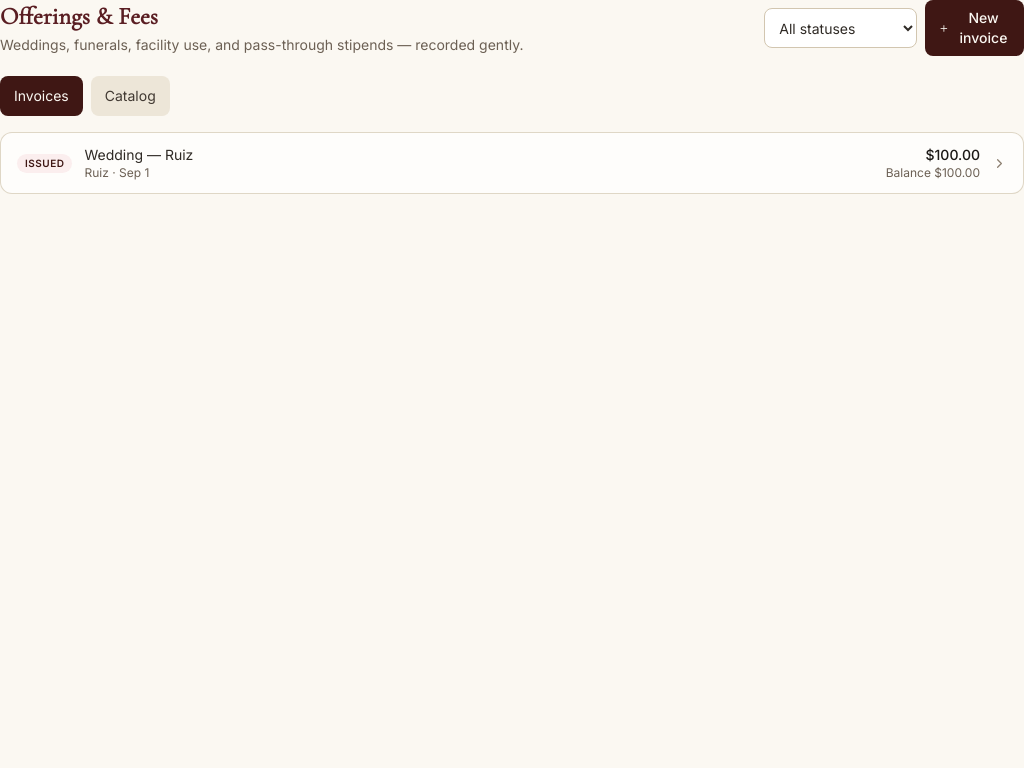
Test: a late invoice read does not replace a newer payment › keeps the paid sheet when an older unpaid read settles afterwards
Click the button "Issued Wedding — Ruiz Ruiz · Sep 1 $100.00 Balance $100.00": coordinates (45, 163) [0,132,1023,194]
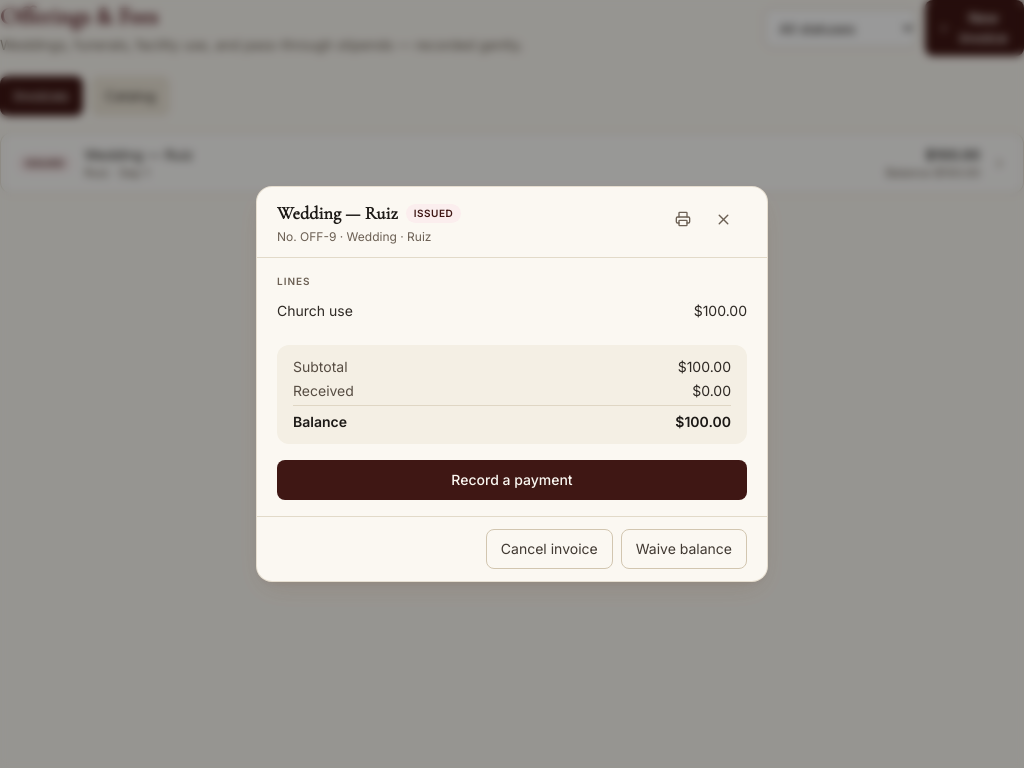
Check: the text "Church use" is shown, box [277,301,353,321]
Click the button "Record a payment": coordinates (512, 480) [277,460,747,500]
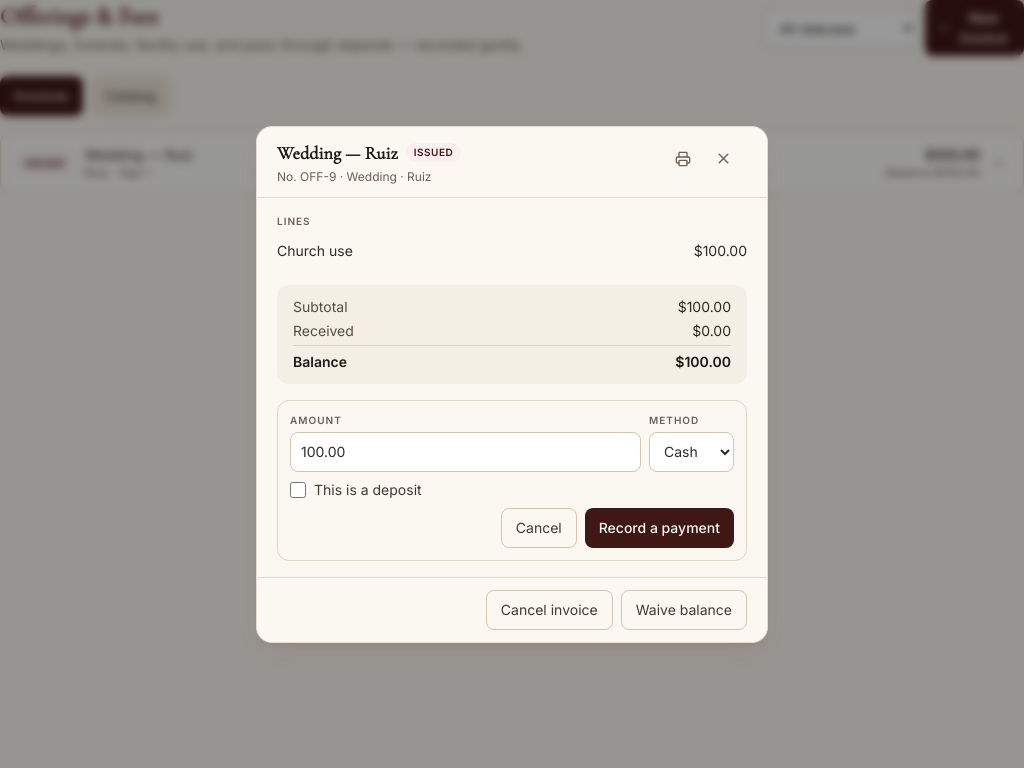
In the field labelled "Amount": coordinates (466, 452) [290,432,641,472], type "100"
Click the button "Record a payment": coordinates (659, 528) [585,508,734,548]
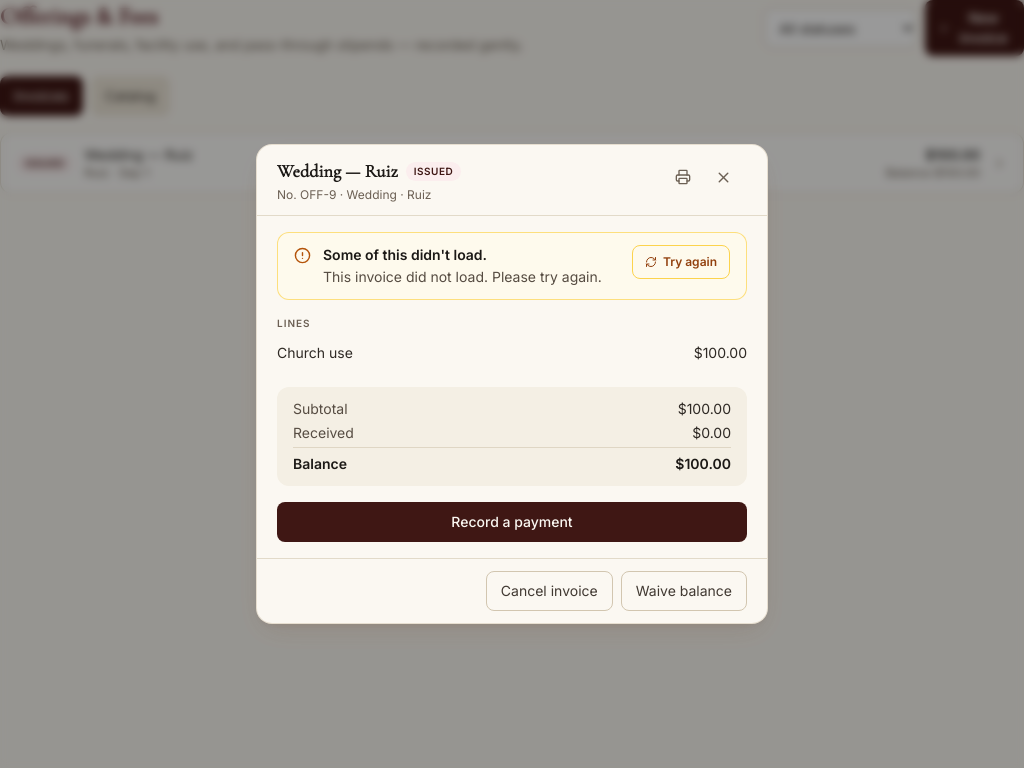
Check: the text "This invoice did not load. Please try again." is shown, box [323,267,620,287]
Click the button "Try again": coordinates (681, 262) [632,245,730,279]
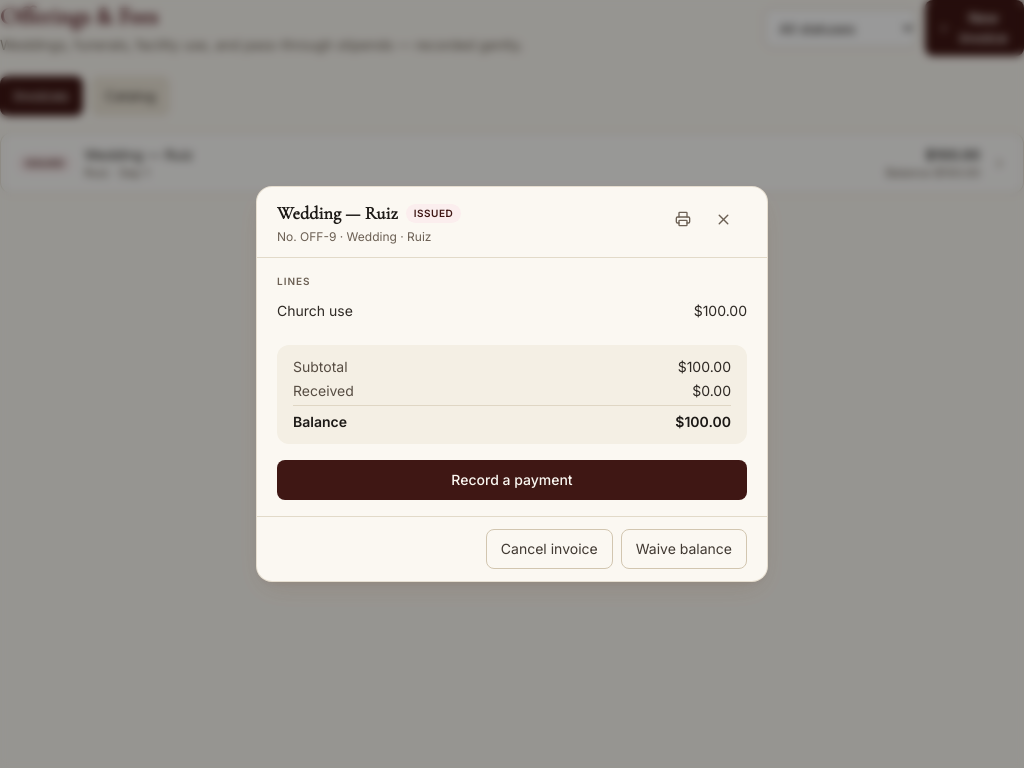
Click the button "Record a payment": coordinates (512, 480) [277,460,747,500]
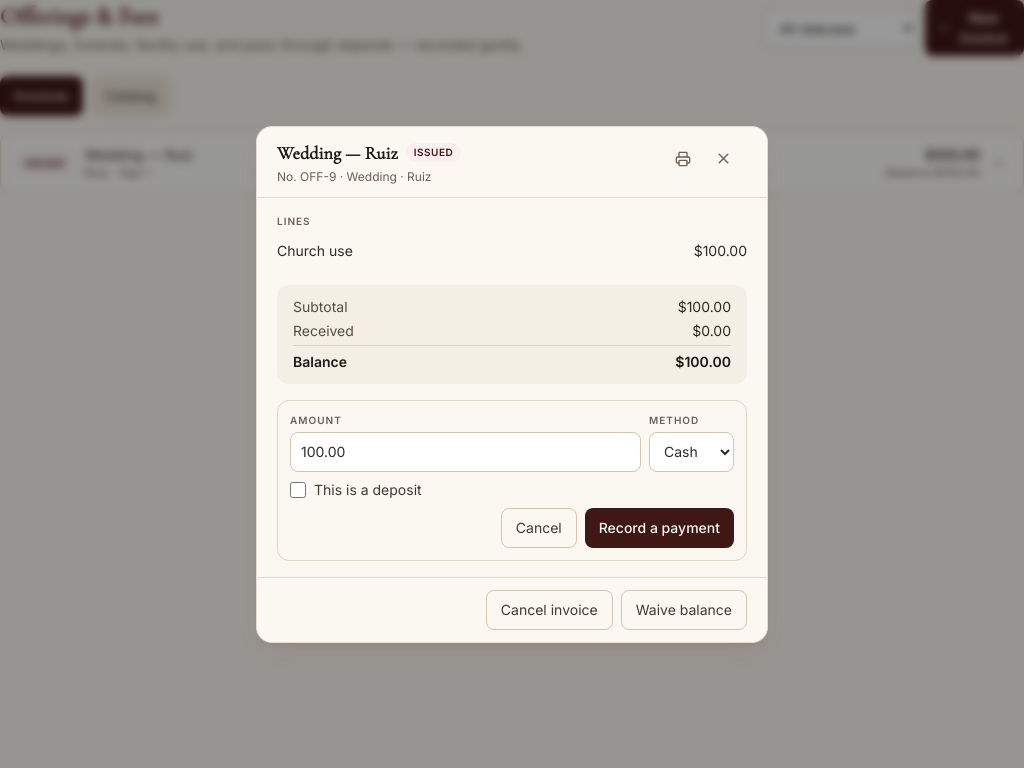
In the field labelled "Amount": coordinates (466, 452) [290,432,641,472], type "100"
Click the button "Record a payment": coordinates (659, 528) [585,508,734,548]
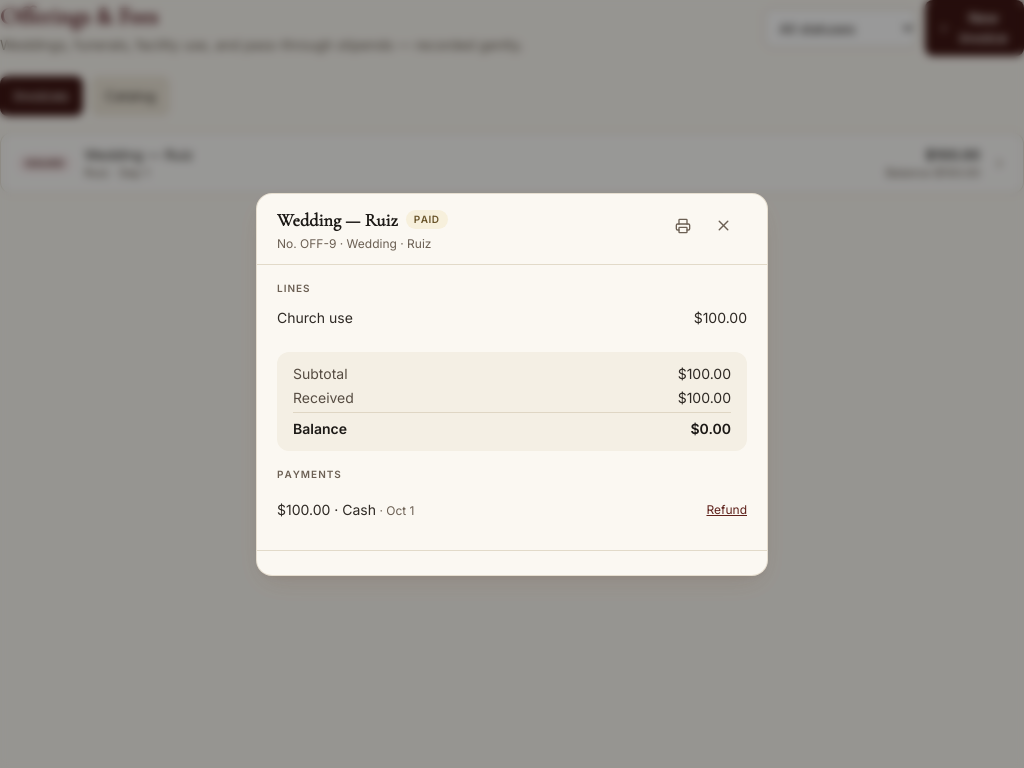
Check: the text "$100.00" in the row of "Church use" is shown, box [694,308,747,326]
Check: the text "Paid" is shown, box [406,210,448,229]
Check: the button "Record a payment" is gone
